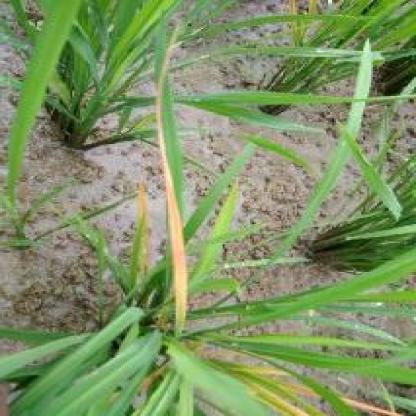Tungro: (160, 107, 188, 336)
